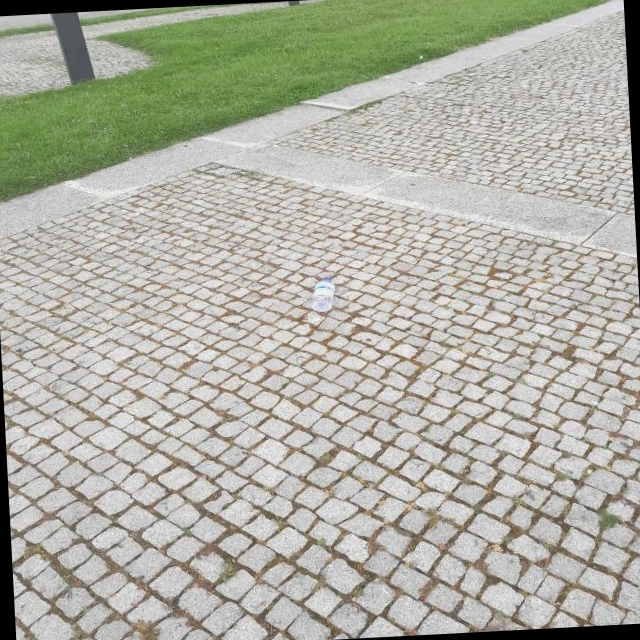Plastic-bottle: (306, 276, 342, 320)
